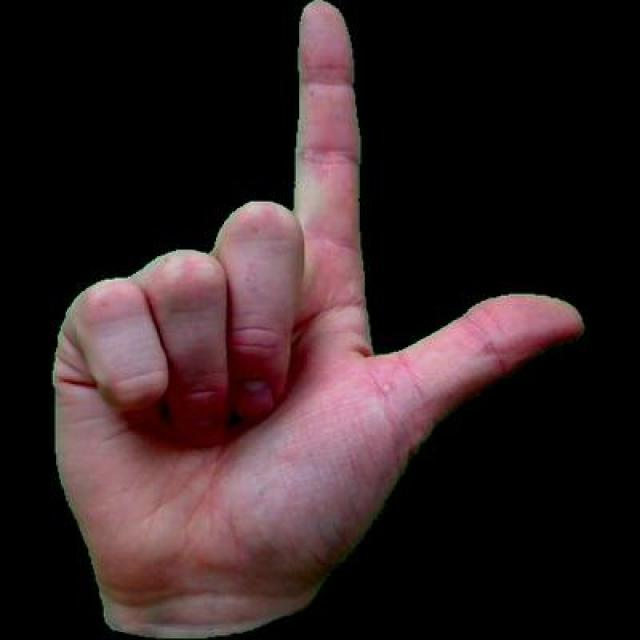l: (46, 0, 588, 637)
